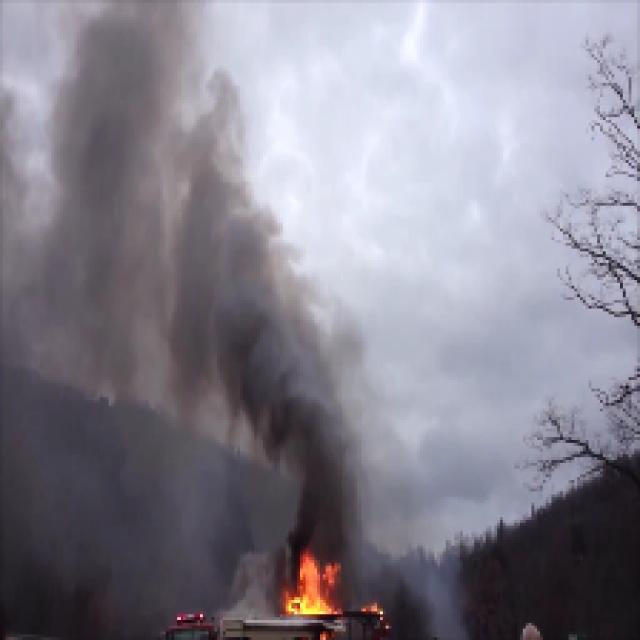fire: (284, 552, 342, 621)
smoke: (5, 3, 208, 607), (283, 309, 356, 533), (214, 168, 272, 428)
